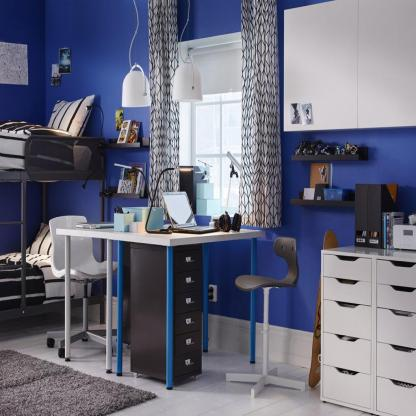Chair: (223, 236, 307, 398)
